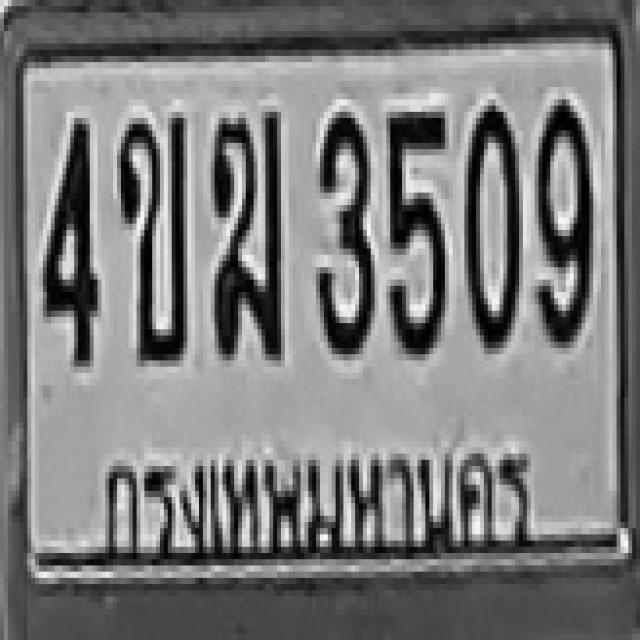0: (461, 99, 519, 348)
11KhorKhai: (115, 112, 185, 360)
15KhorRaKhang: (209, 109, 279, 351)
3: (312, 106, 371, 348)
4: (39, 112, 94, 360)
5: (382, 106, 441, 354)
9: (535, 93, 589, 342)
